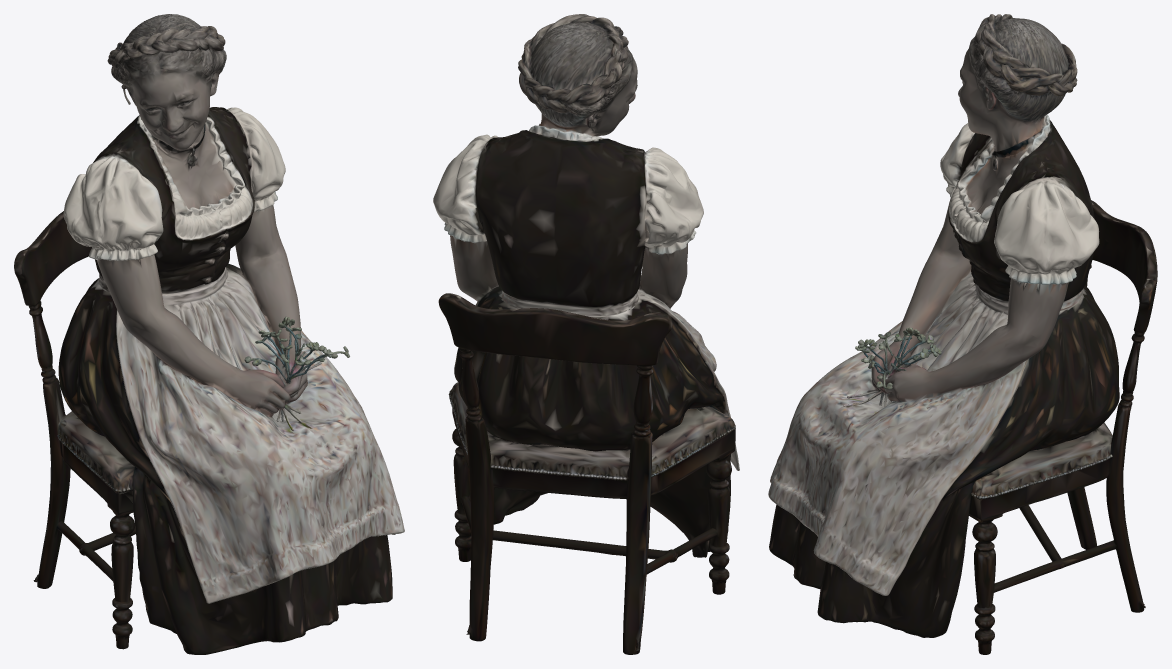
3 renders of one model, left to right at view 1: azimuth 30°, elevation 25°; view 2: azimuth 150°, elevation 25°; view 3: azimuth 270°, elevation 25°, orthographic.
Size of the model in its own units: 0.5005 by 0.9782 by 0.6062.
